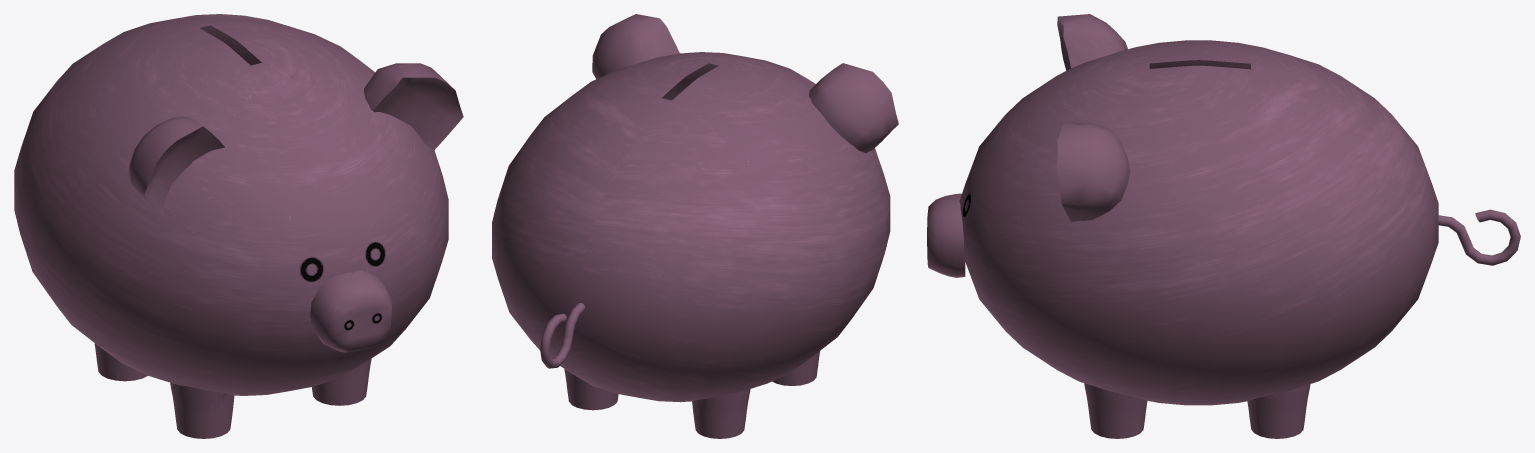
The model's file is Piggy_Bank_Lp.FBX.
3 renders of one model, left to right at view 1: azimuth 30°, elevation 25°; view 2: azimuth 150°, elevation 25°; view 3: azimuth 270°, elevation 25°, orthographic. The views are drawn at different scales.
Parts seen in each view (by area): view 1: Lp; view 2: Lp; view 3: Lp.
Part boxes in pixels (x1,y1,x2,y2): Lp: [14, 14, 463, 438]; Lp: [492, 14, 898, 438]; Lp: [927, 14, 1520, 438].
Bounding box in the file's own units: 17.79 × 16.1 × 26.03.
Materials: 1 (1 with a texture image).
